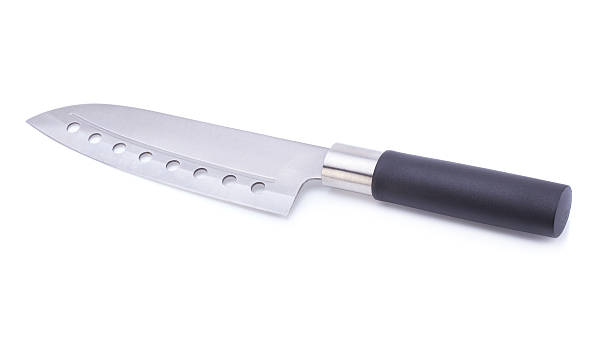knife: (23, 101, 574, 240)
